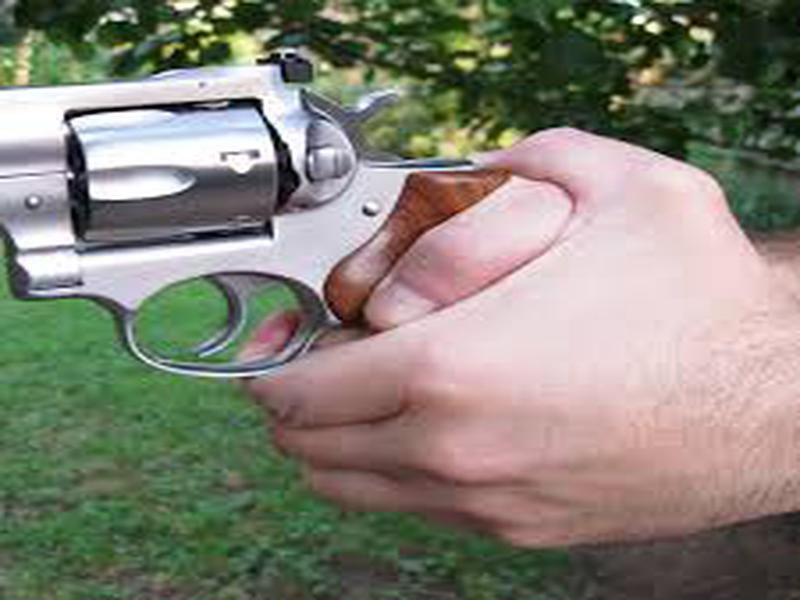gun: (1, 43, 800, 570)
